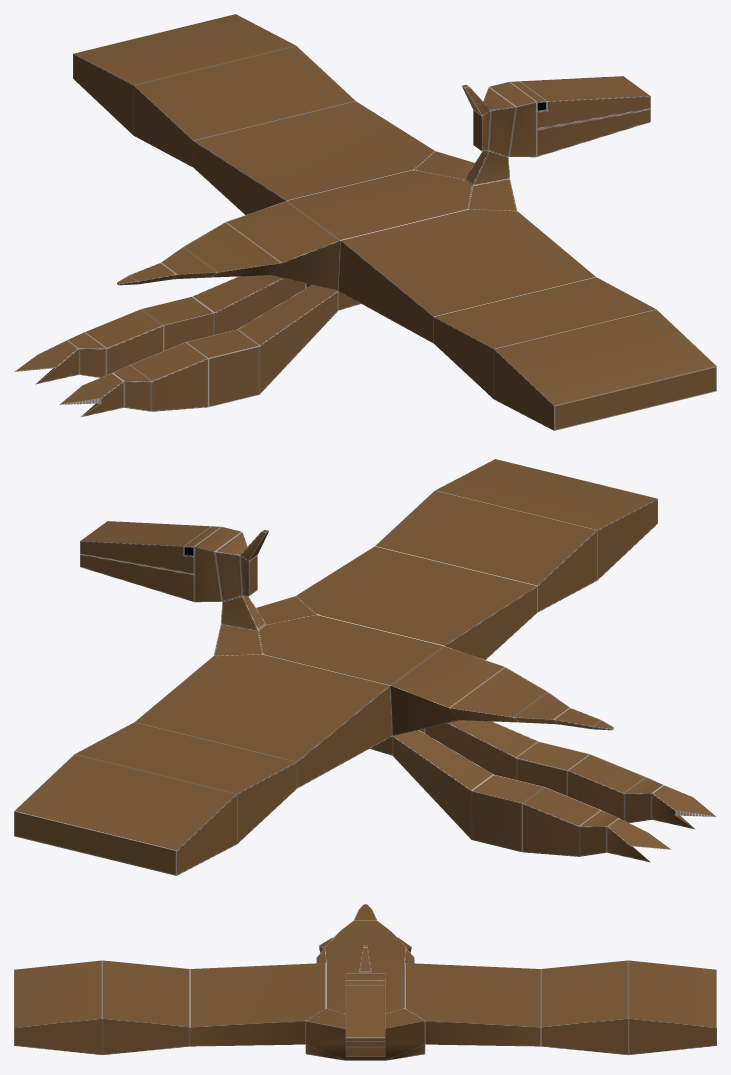
File: pterodactyl.fbx
The picture shows the model from 3 angles, top to bottom: view 1: azimuth 30°, elevation 25°; view 2: azimuth 150°, elevation 25°; view 3: azimuth 270°, elevation 25°; orthographic projection. The views are drawn at different scales.
Parts seen in each view (by area): view 1: pCube1; view 2: pCube1; view 3: pCube1.
Boxes of the visible parts, x1,y1,x2,y2 form: pCube1: (14, 14, 716, 430); pCube1: (14, 459, 716, 875); pCube1: (14, 904, 716, 1060).
Size of the model in its own units: 3.11 by 1.11 by 4.31.
Materials: 1 (1 with a texture image).
